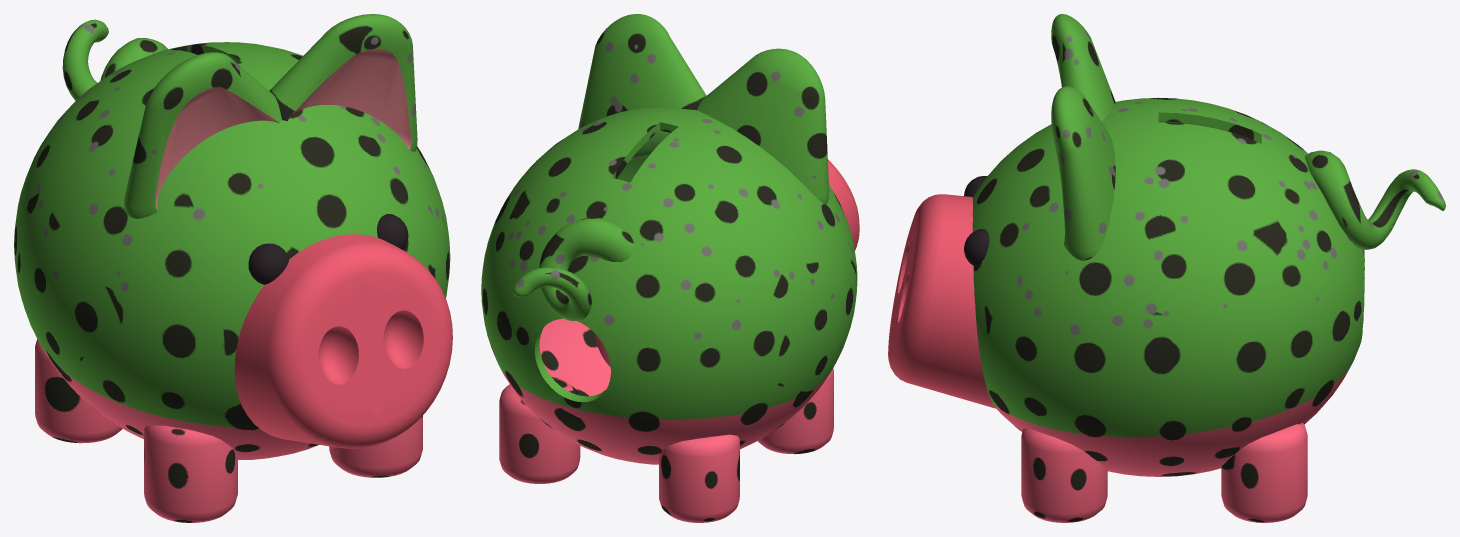
Rendered from watermelon-complete.fbx.
3 renders of one model, left to right at view 1: azimuth 30°, elevation 25°; view 2: azimuth 150°, elevation 25°; view 3: azimuth 270°, elevation 25°, orthographic. The views are drawn at different scales.
Parts seen in each view (by area): view 1: Body, Snout, Ears, Legs, Tail, Eyes; view 2: Body, Ears, Legs, Tail, Snout; view 3: Body, Snout, Legs, Ears, Tail, Eyes.
Boxes of the visible parts, left/top/right/bottom form: Body: left=14, top=42, right=450, bottom=459; Snout: left=234, top=234, right=452, bottom=448; Ears: left=124, top=14, right=417, bottom=218; Legs: left=35, top=339, right=422, bottom=522; Tail: left=62, top=19, right=167, bottom=100; Eyes: left=248, top=214, right=408, bottom=284; Body: left=481, top=107, right=857, bottom=464; Ears: left=578, top=14, right=829, bottom=203; Legs: left=499, top=334, right=833, bottom=522; Tail: left=513, top=217, right=634, bottom=321; Snout: left=828, top=159, right=859, bottom=250; Body: left=972, top=97, right=1364, bottom=476; Snout: left=888, top=194, right=996, bottom=408; Legs: left=1021, top=423, right=1307, bottom=522; Ears: left=1051, top=14, right=1115, bottom=260; Tail: left=1305, top=150, right=1445, bottom=249; Eyes: left=964, top=176, right=989, bottom=265.
Bounding box in the file's own units: 1200 × 1397 × 1708.
3 materials, 2 textured.
